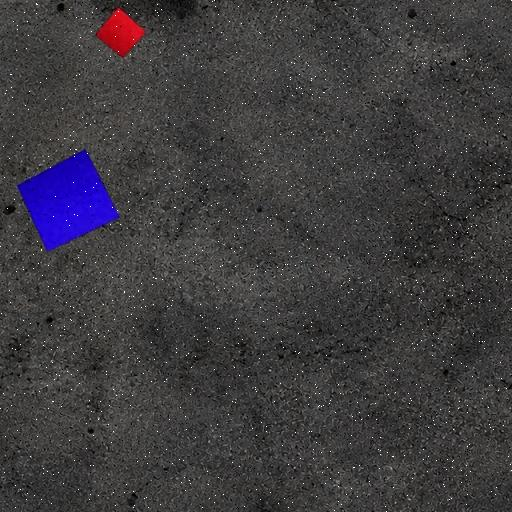BLUE_SQUARE: (17, 148, 120, 252)
RED_SQUARE: (96, 6, 146, 58)
